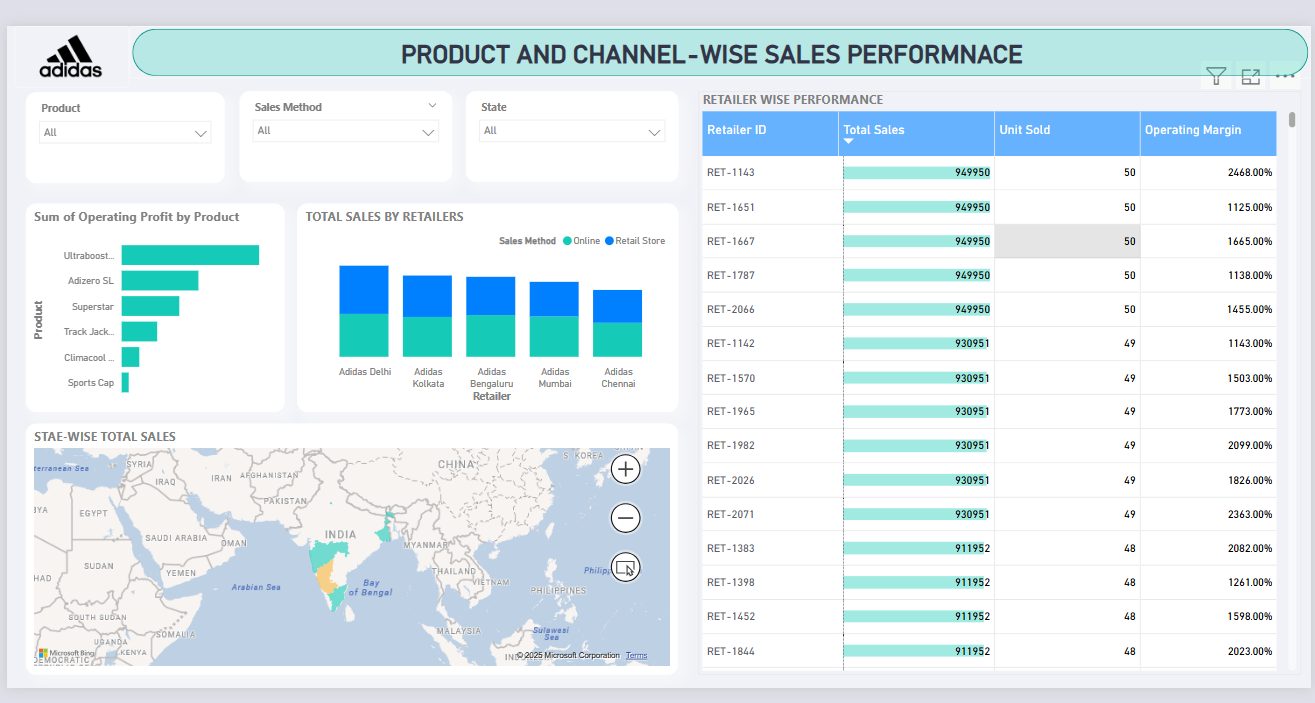

This screenshot's page, from the dashboard's own definition file:
{"tool":"powerbi","page":{"name":"PRODUCT SALES","canvas":[1490,757],"ordinal":1},"visuals":[{"type":"columnChart","title":"TOTAL SALES BY RETAILERS","fields":{"Category":["Adidas_India_Sales_Dataset_1100_Rows.Retailer"],"Y":["measures (2).Total Sales"],"Series":["Adidas_India_Sales_Dataset_1100_Rows.Sales Method"]},"box":[331.4,202.9,435.7,238.6],"z":0},{"type":"filledMap","title":"STAE-WISE TOTAL SALES ","fields":{"Category":["Adidas_India_Sales_Dataset_1100_Rows.State"],"Series":["Adidas_India_Sales_Dataset_1100_Rows.Total Sales"]},"box":[21.4,454.3,745.7,287.1],"z":1000},{"type":"pivotTable","title":"RETAILER WISE PERFORMANCE","fields":{"Values":["measures (2).Total Sales","measures (2).Unit Sold","measures (2).Operating Margin"],"Rows":["Adidas_India_Sales_Dataset_1100_Rows.Retailer ID","Adidas_India_Sales_Dataset_1100_Rows.Retailer"]},"box":[790,74.3,688.6,667.1],"z":2000},{"type":"image","box":[8.6,0,131.4,70],"z":3000},{"type":"shape","box":[128.6,5.7,1350,60],"z":4000},{"type":"textbox","box":[387.1,10,837.1,60],"z":5000},{"type":"barChart","title":"Operating Profit by Product","fields":{"Category":["Adidas_India_Sales_Dataset_1100_Rows.Product"],"Y":["Sum(Adidas_India_Sales_Dataset_1100_Rows.Operating Profit)"]},"box":[21.4,202.9,295.7,238.6],"z":6000},{"type":"slicer","fields":{"Values":["Adidas_India_Sales_Dataset_1100_Rows.State"]},"box":[524.3,74.3,242.9,104.3],"z":8000},{"type":"slicer","fields":{"Values":["Adidas_India_Sales_Dataset_1100_Rows.Sales Method"]},"box":[265.7,74.3,242.9,104.3],"z":9000},{"type":"slicer","fields":{"Values":["Adidas_India_Sales_Dataset_1100_Rows.Product"]},"box":[21.4,75.7,227.1,104.3],"z":10000}]}

Visuals, with their boxes on the page's 1490x757 design canvas (x1, y1, x2, y2). These are canvas units, not pixel positions in the 1315x703 screenshot, which may show the page scaled, cropped or inside an application window:
"TOTAL SALES BY RETAILERS" columnChart: box(331, 203, 767, 442)
"STAE-WISE TOTAL SALES " filledMap: box(21, 454, 767, 741)
"RETAILER WISE PERFORMANCE" pivotTable: box(790, 74, 1479, 741)
image: box(9, 0, 140, 70)
shape: box(129, 6, 1479, 66)
textbox: box(387, 10, 1224, 70)
"Operating Profit by Product" barChart: box(21, 203, 317, 442)
slicer - Adidas_India_Sales_Dataset_1100_Rows.State: box(524, 74, 767, 179)
slicer - Adidas_India_Sales_Dataset_1100_Rows.Sales Method: box(266, 74, 509, 179)
slicer - Adidas_India_Sales_Dataset_1100_Rows.Product: box(21, 76, 248, 180)
